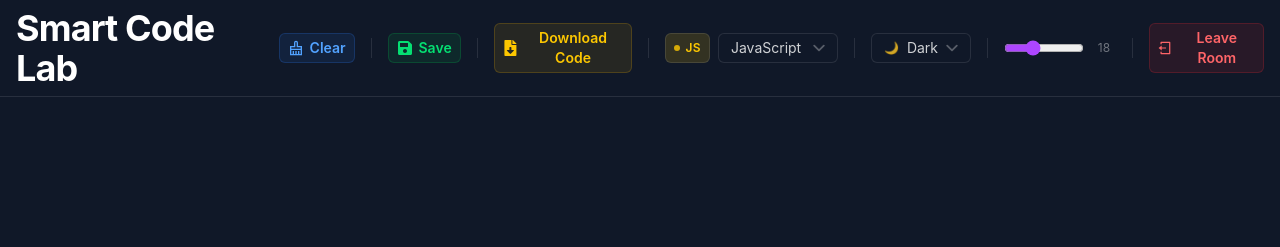
Test: Navbar — language dropdown › closes language dropdown after selecting a language
What coordinates should you click on to do the following:
click the button "JavaScript"
I would click on:
 (778, 48)
Its box is [718, 33, 838, 63].
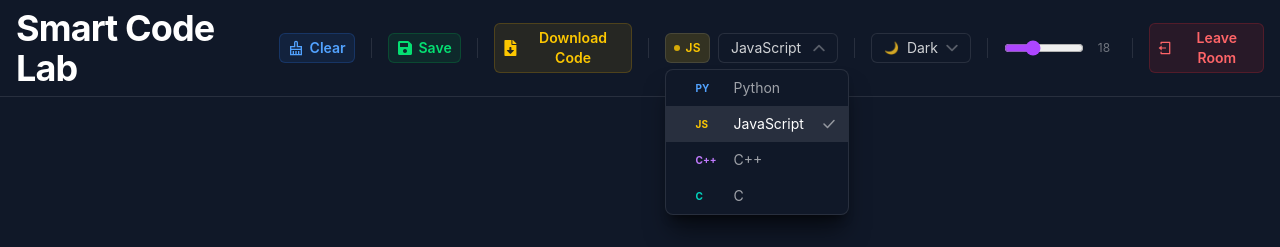
What coordinates should you click on to do the following:
click the text "Python"
I would click on:
 (757, 88)
Its box is [734, 78, 780, 98].
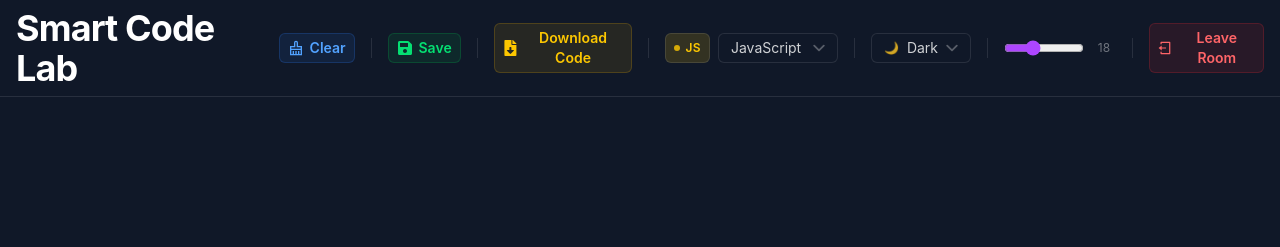
Now the button "C++" is gone
